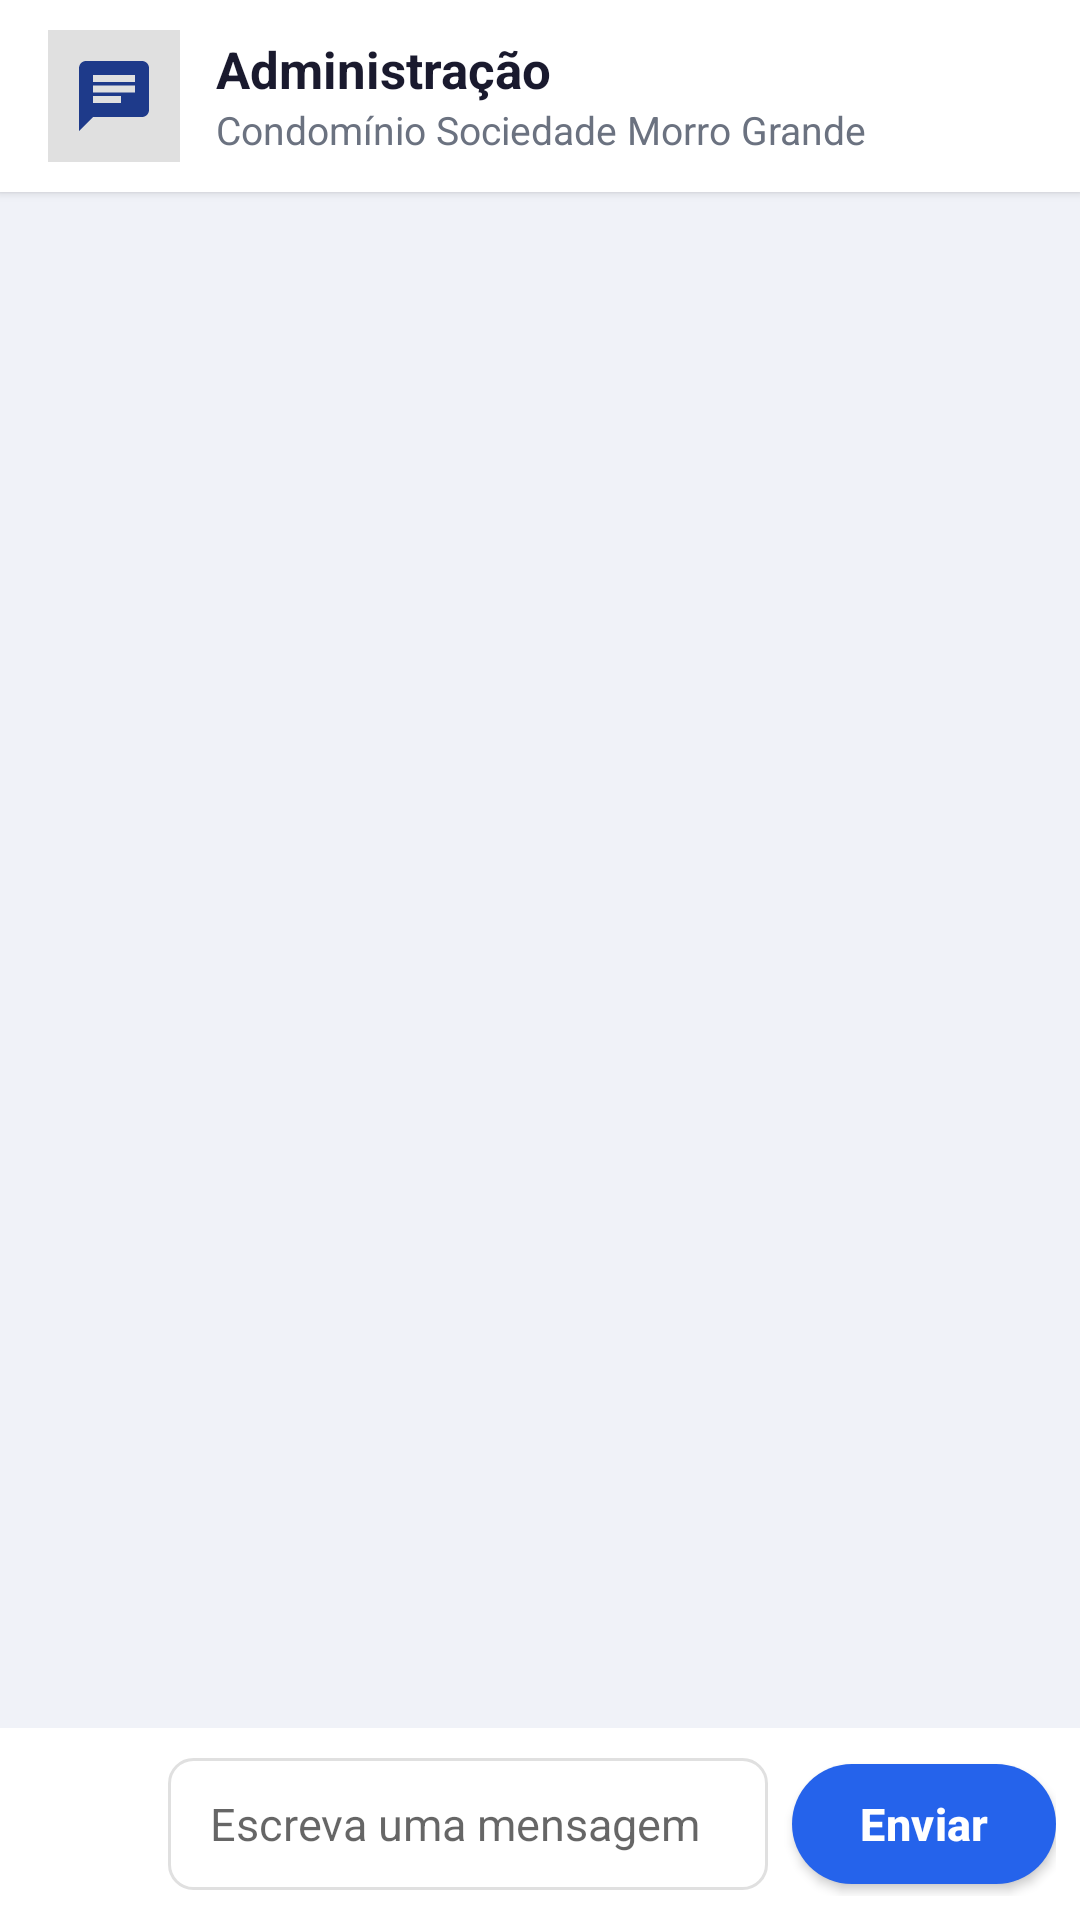

Named icons in this screenshot (1080px x 1920px) and their bounding boxes, (x1, y1, x2, y2):
Contato: (48, 30, 180, 162)
